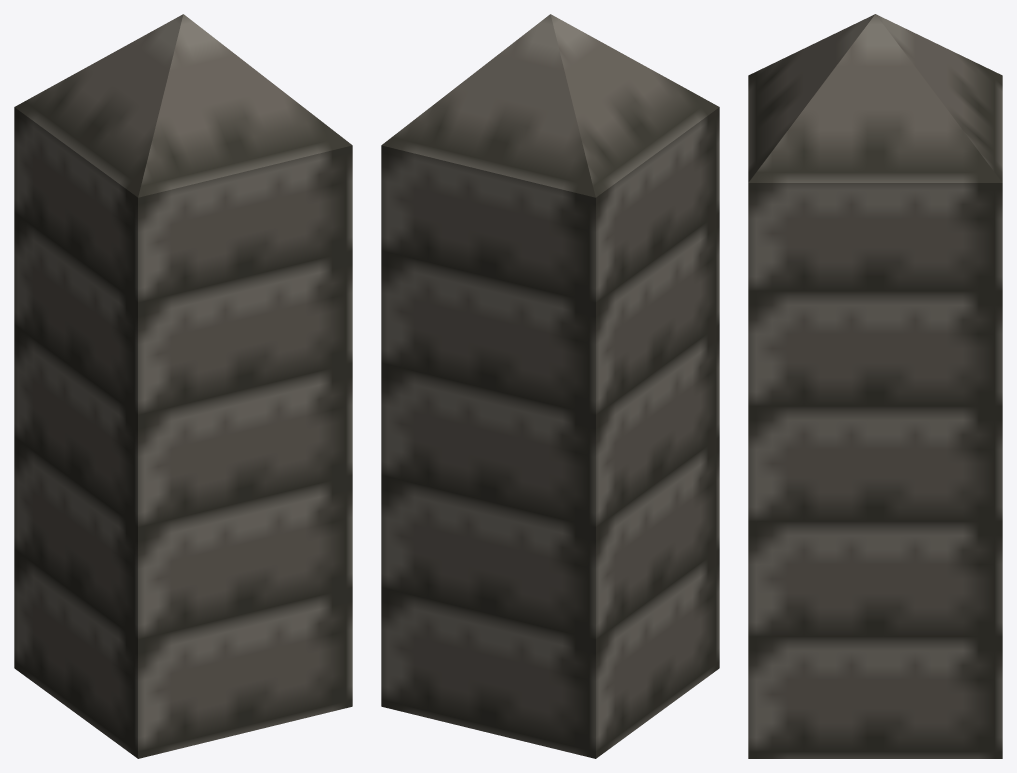
File: Railing_Corner_2.fbx
The picture shows the model from 3 angles, left to right: view 1: azimuth 30°, elevation 25°; view 2: azimuth 150°, elevation 25°; view 3: azimuth 270°, elevation 25°; orthographic projection. The views are drawn at different scales.
Visible parts, largest first — view 1: Railing_Corner_2; view 2: Railing_Corner_2; view 3: Railing_Corner_2.
Part boxes in pixels (left/top/right/bottom): Railing_Corner_2: left=14, top=14, right=352, bottom=758; Railing_Corner_2: left=381, top=14, right=719, bottom=758; Railing_Corner_2: left=748, top=14, right=1002, bottom=758.
Bounding box in the file's own units: 100 × 300 × 100.
1 material, 1 textured.
